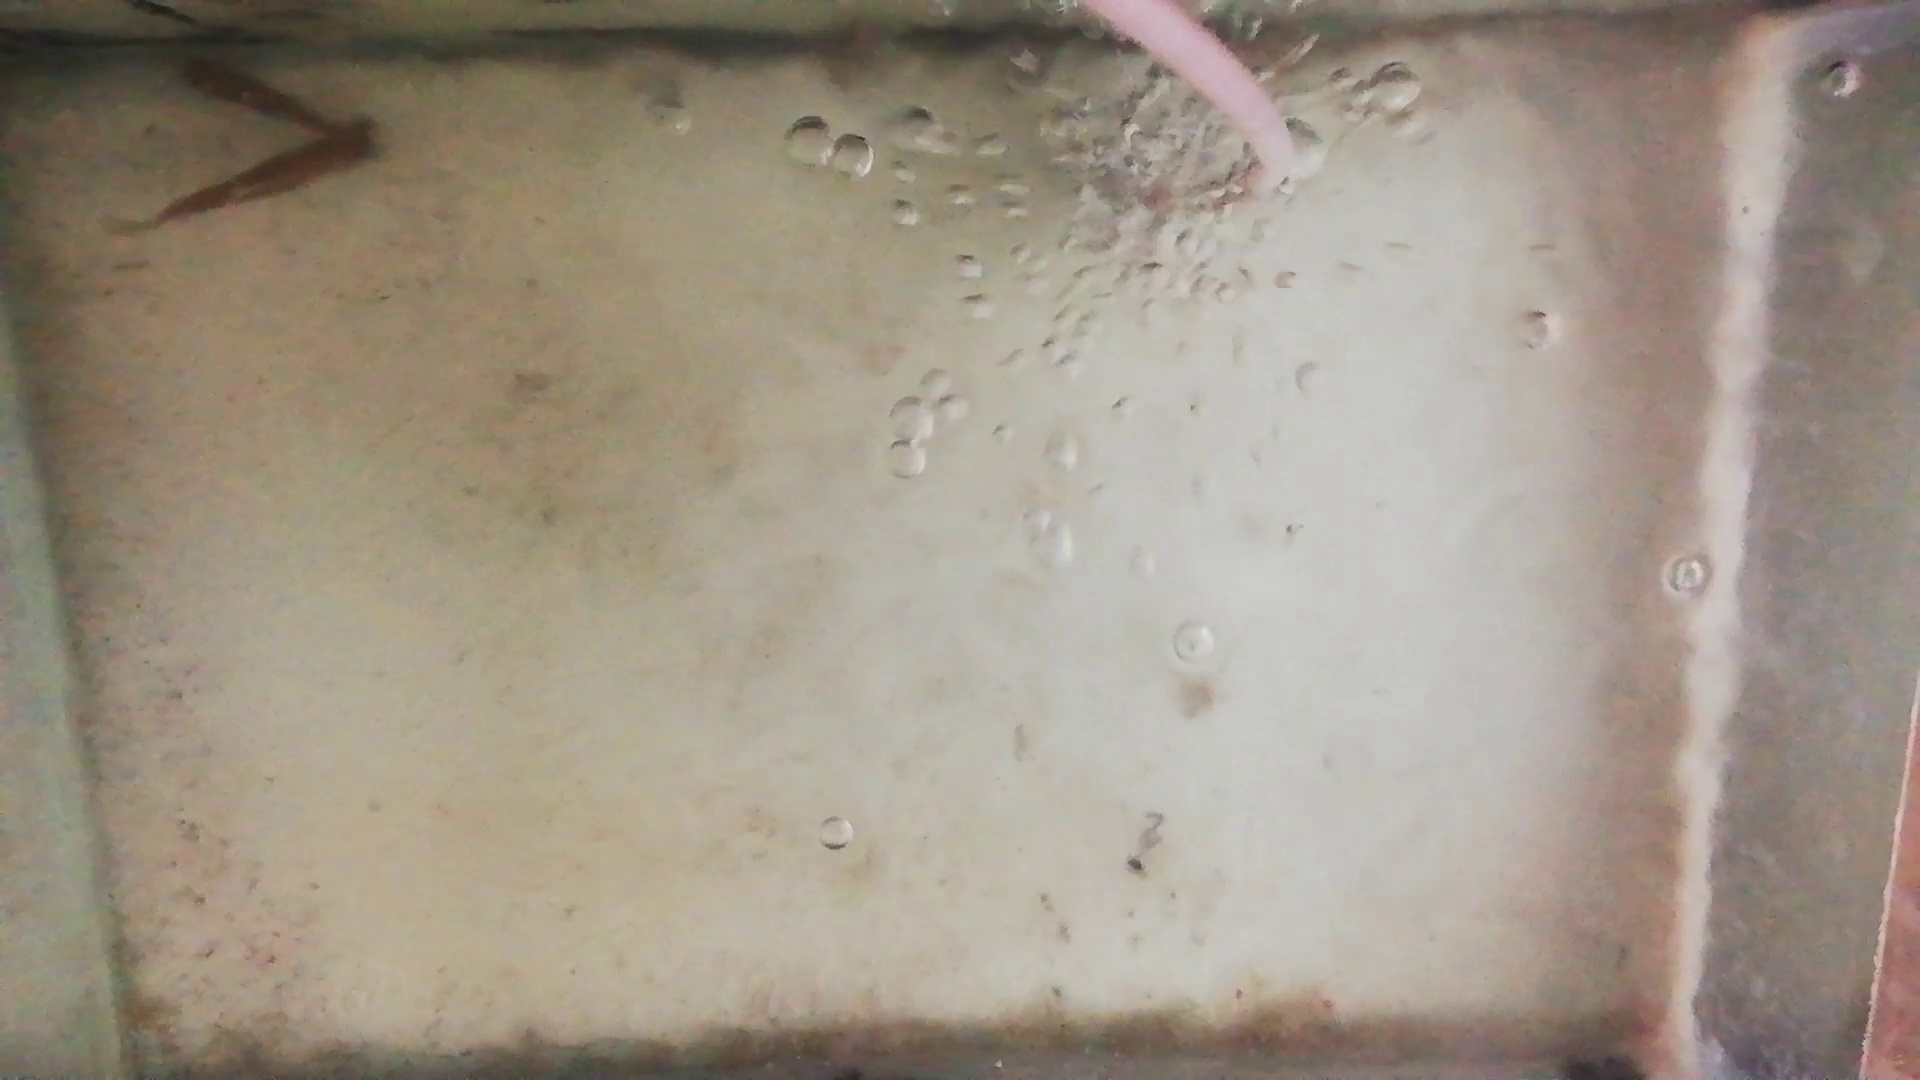fish: (156, 116, 396, 227), (158, 47, 331, 131)
